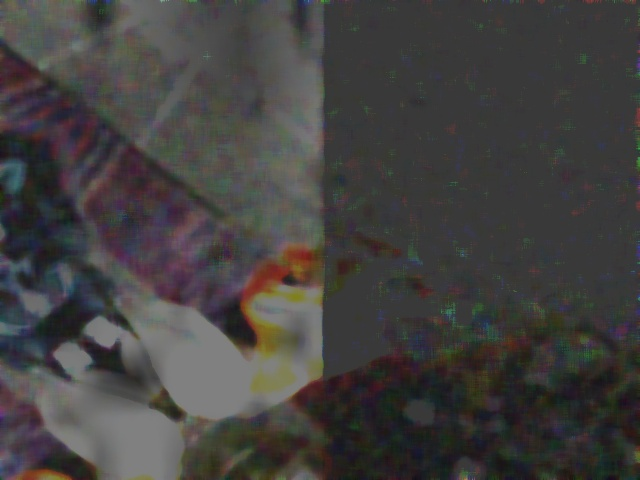three: (163, 372, 218, 416)
